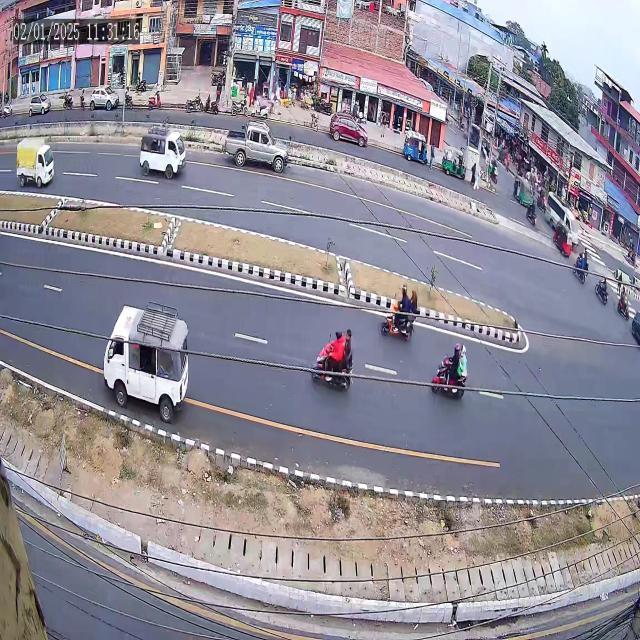motorcycle: (298, 309, 357, 411), (427, 330, 479, 411), (374, 267, 421, 348)
van: (90, 284, 199, 434), (13, 115, 69, 201), (135, 115, 191, 192)
